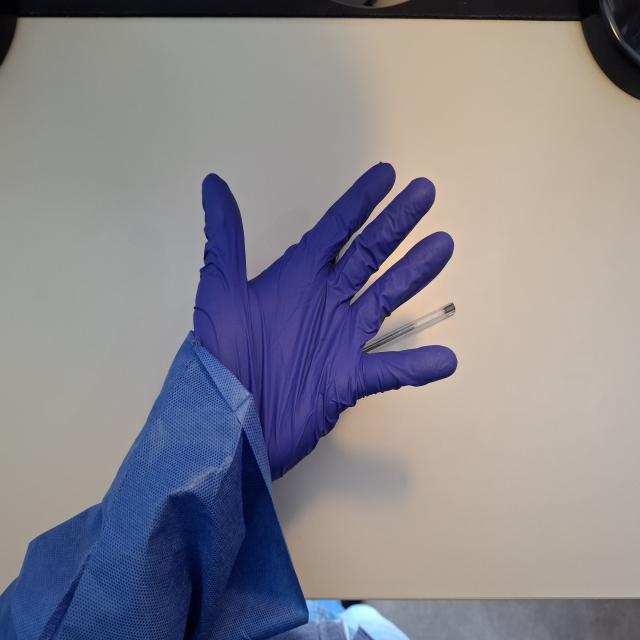glove_on: (190, 159, 460, 488)
